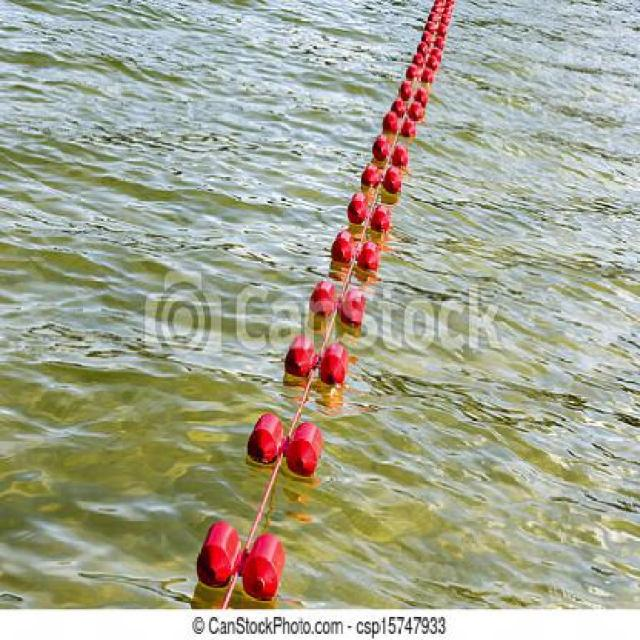a: (308, 65, 443, 297), (184, 503, 303, 604), (247, 401, 338, 504), (280, 322, 349, 406), (297, 283, 371, 342), (351, 157, 403, 213), (343, 193, 397, 246), (324, 236, 383, 284), (409, 33, 448, 80), (370, 133, 414, 173), (391, 93, 429, 139), (399, 79, 438, 106), (204, 238, 207, 242)
